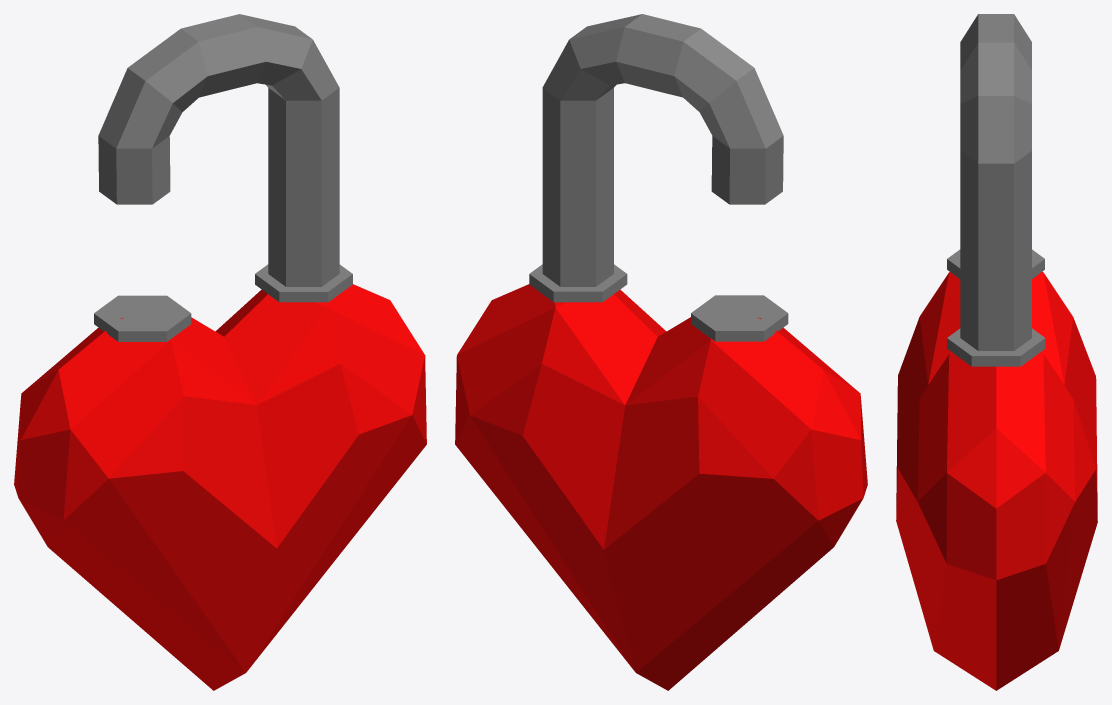
File: Env_Gembok_01a.fbx
The picture shows the model from 3 angles, left to right: view 1: azimuth 30°, elevation 25°; view 2: azimuth 150°, elevation 25°; view 3: azimuth 270°, elevation 25°; orthographic projection.
Visible parts, largest first — view 1: Gembok Love; view 2: Gembok Love; view 3: Gembok Love.
Boxes of the visible parts, box(x1,y1,x2,y2) form: Gembok Love: box(14, 14, 426, 690); Gembok Love: box(455, 14, 867, 690); Gembok Love: box(896, 14, 1097, 690).
Bounding box in the file's own units: 63.34 × 98.71 × 27.11.
